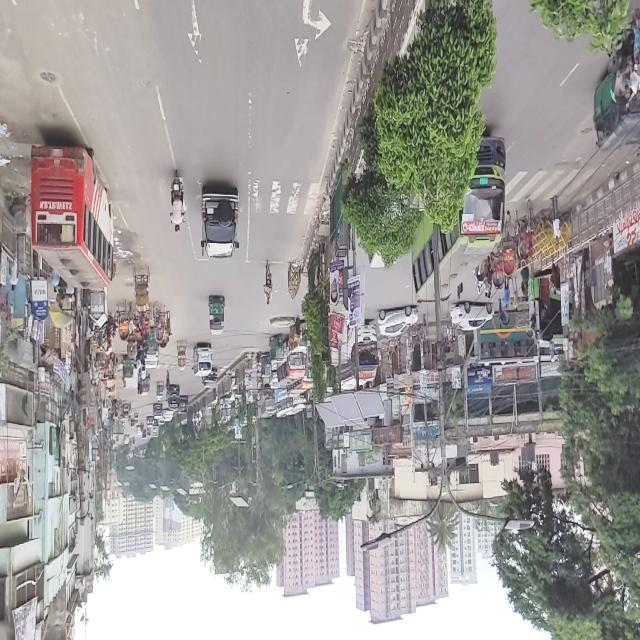black: (201, 184, 242, 258)
silver: (379, 304, 418, 339)
white: (452, 300, 496, 329), (192, 342, 212, 380)
